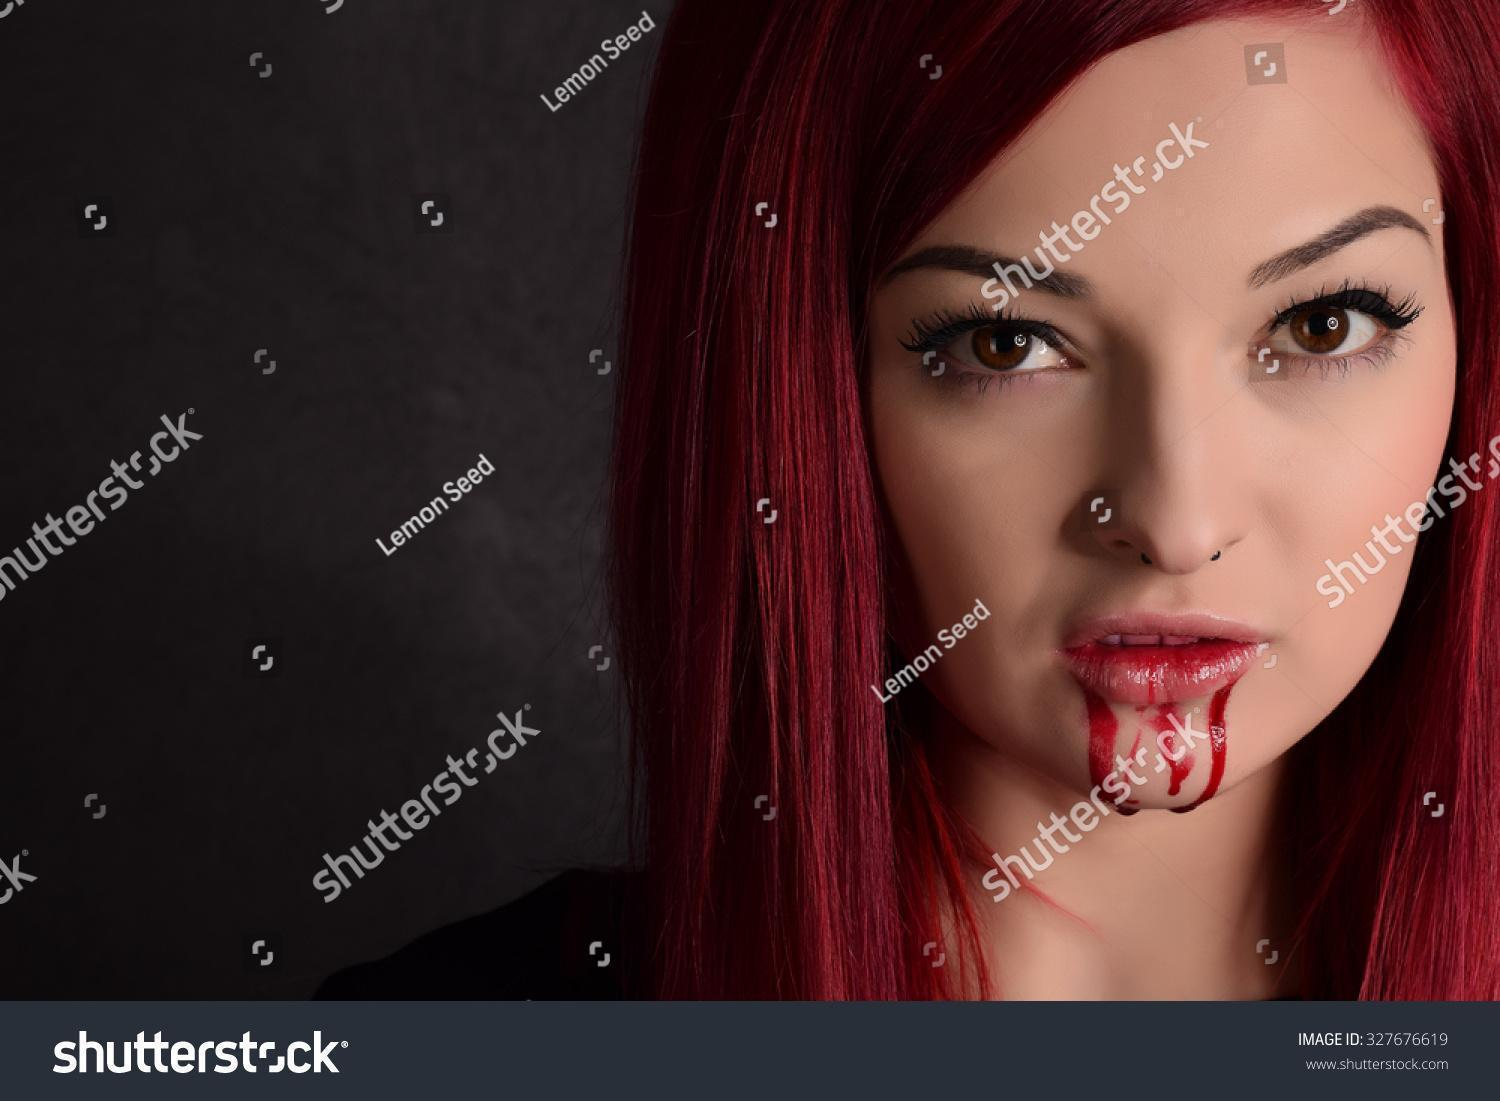Fire: (1043, 634, 1276, 816)
